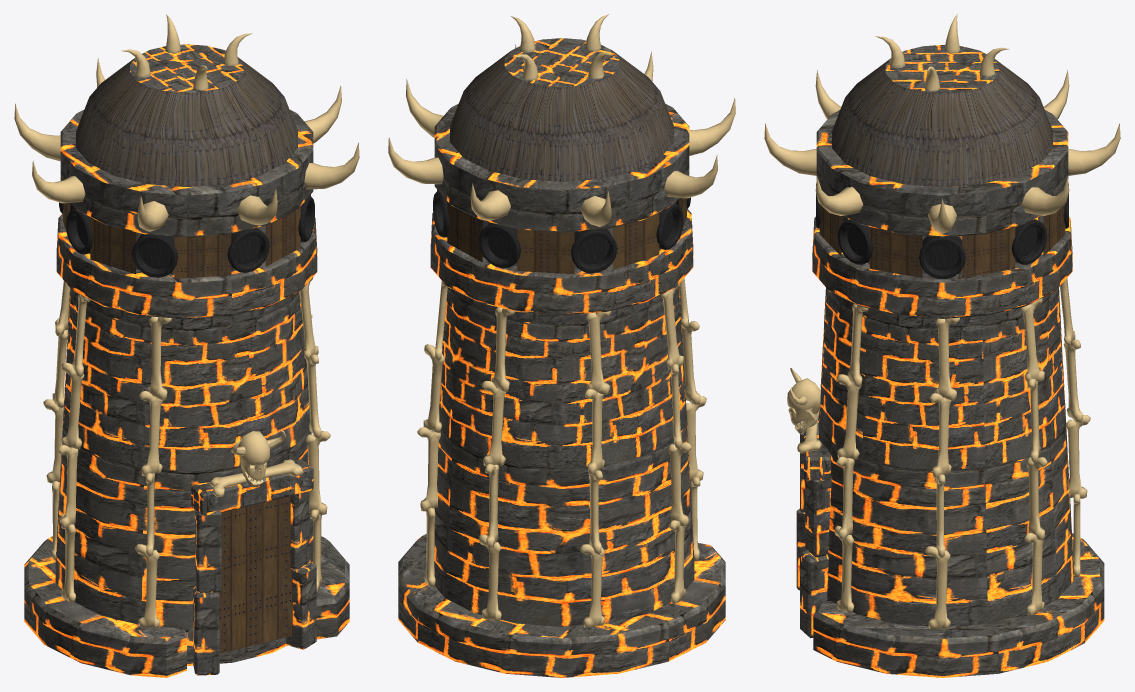
File: Tower_Test02.FBX
The picture shows the model from 3 angles, left to right: view 1: azimuth 30°, elevation 25°; view 2: azimuth 150°, elevation 25°; view 3: azimuth 270°, elevation 25°; orthographic projection.
Visible parts, largest first — view 1: Tower, Bones, Spikes, Crane; view 2: Tower, Bones, Spikes; view 3: Tower, Bones, Spikes, Crane.
Part boxes in pixels (x1,y1,x2,y2): Tower: [24, 44, 349, 677]; Bones: [43, 277, 330, 628]; Spikes: [14, 14, 359, 231]; Crane: [210, 430, 303, 496]; Tower: [398, 38, 725, 677]; Bones: [417, 278, 706, 627]; Spikes: [388, 14, 735, 226]; Tower: [796, 45, 1104, 677]; Bones: [834, 278, 1090, 629]; Spikes: [764, 14, 1120, 233]; Crane: [787, 368, 821, 453].
Bounding box in the file's own units: 1.08 × 1.9 × 1.08.
